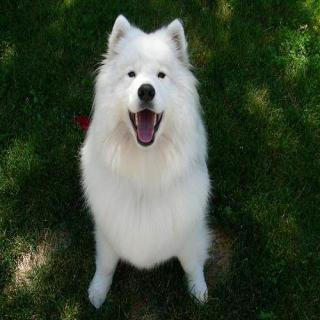dog: (90, 0, 204, 166)
nose: (135, 81, 157, 104)
